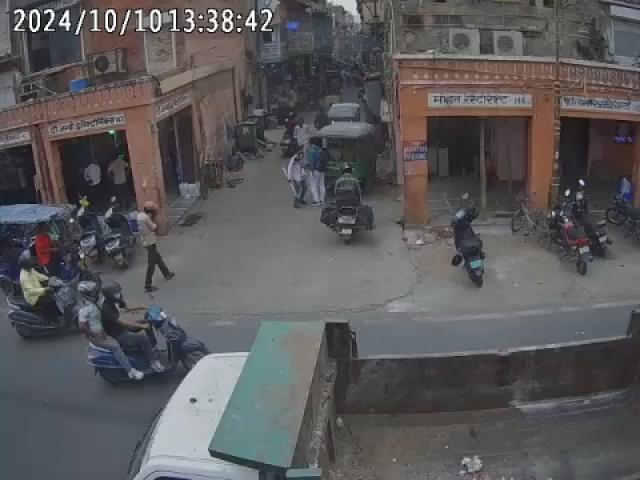auto: (2, 202, 78, 294), (315, 122, 378, 180)
bicycle: (511, 188, 551, 256)
helmet: (98, 281, 127, 304), (20, 252, 39, 274), (78, 282, 97, 302), (341, 166, 354, 177)
motorbike: (550, 189, 590, 273), (612, 185, 638, 238)
motorbike-rider: (278, 116, 306, 157)
person: (132, 194, 174, 294), (285, 140, 321, 206)
scooty: (569, 176, 615, 255), (446, 202, 486, 286), (99, 193, 138, 274), (72, 195, 101, 263)
scooty-rider: (76, 282, 206, 382), (6, 251, 83, 341), (320, 164, 374, 244)
truck: (122, 307, 639, 480)
